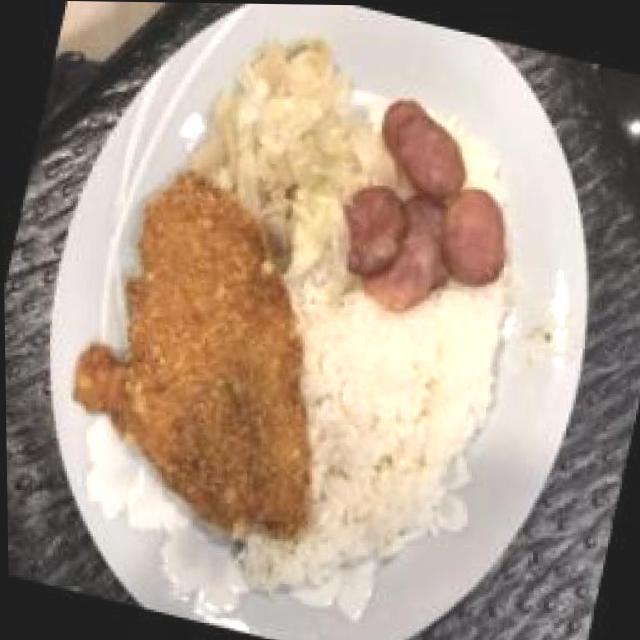chinese_cabbage: (195, 27, 386, 264)
chinese_sausage: (336, 92, 537, 334)
fried_chicken: (82, 161, 379, 544)
rice: (298, 295, 479, 536)
